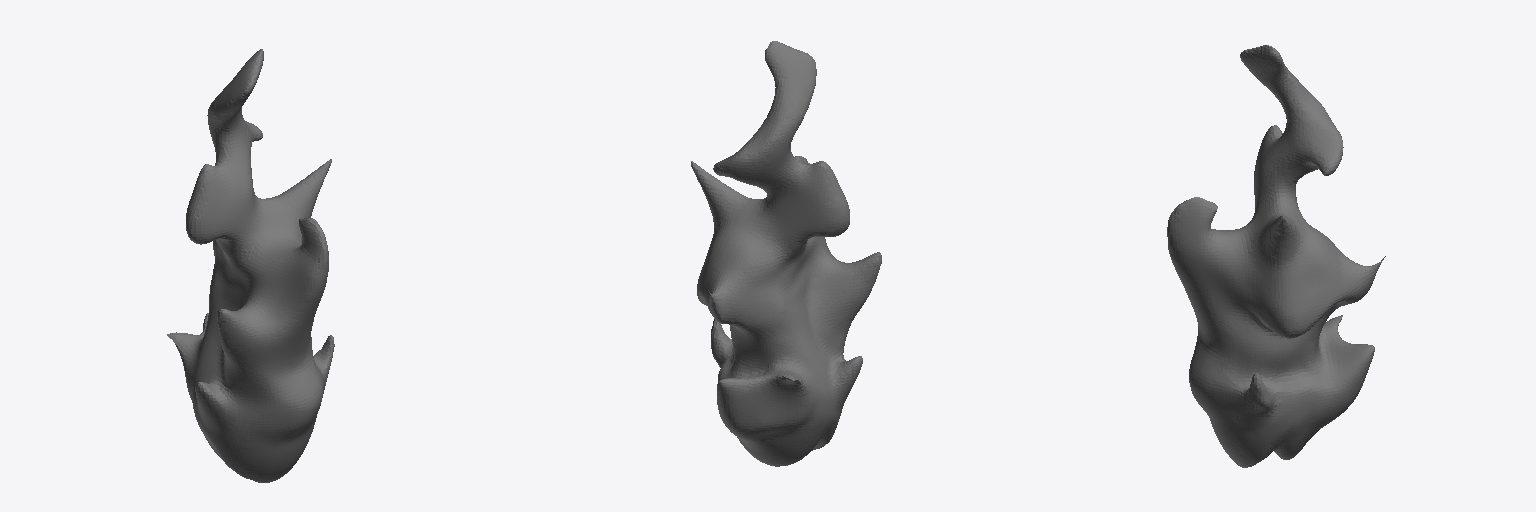
Rendered from Flame.obj.
3 renders of one model, left to right at view 1: azimuth 30°, elevation 25°; view 2: azimuth 150°, elevation 25°; view 3: azimuth 270°, elevation 25°, orthographic.
Visible parts, largest first — view 1: Fyer03Geo; view 2: Fyer03Geo; view 3: Fyer03Geo.
Boxes of the visible parts, x1,y1,x2,y2 form: Fyer03Geo: [167, 49, 334, 482]; Fyer03Geo: [691, 41, 881, 466]; Fyer03Geo: [1167, 45, 1385, 467].
Size of the model in its own units: 1.03 by 2.73 by 1.32.